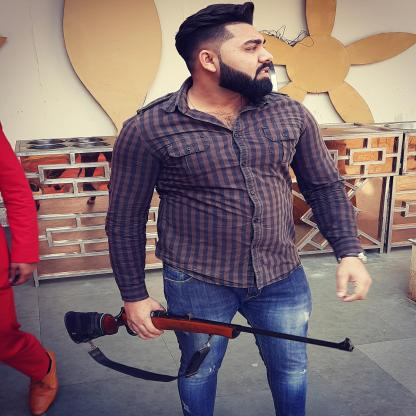rifle: (62, 304, 357, 354)
